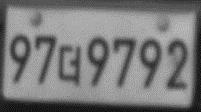2: (165, 39, 189, 90)
7: (112, 36, 137, 88), (33, 34, 57, 84)
9: (86, 35, 110, 86), (139, 38, 163, 88), (8, 33, 32, 82)
더: (57, 44, 82, 85)
